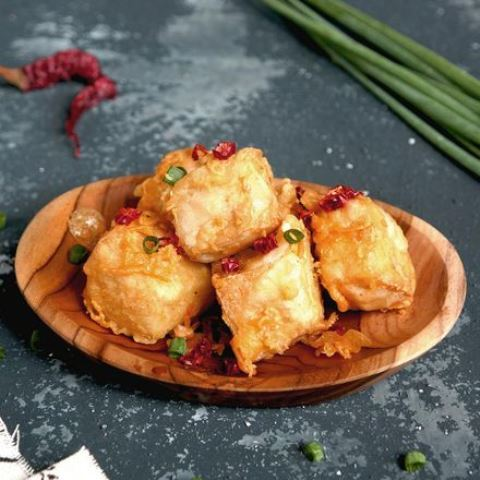Tahu: (157, 147, 289, 254), (89, 231, 205, 337), (212, 238, 319, 347), (314, 180, 395, 308)
